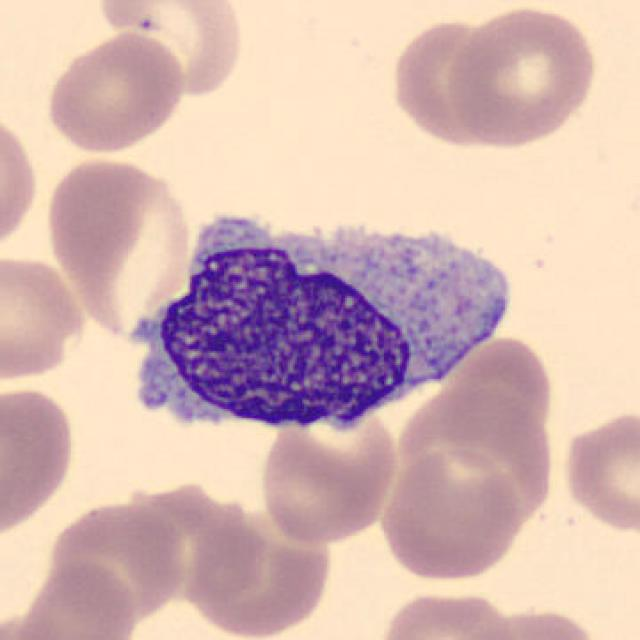Monocyte: (115, 195, 537, 442)
RBC: (41, 152, 192, 340), (442, 2, 602, 150), (254, 393, 402, 548), (377, 442, 526, 584), (182, 508, 338, 636), (41, 496, 190, 630), (113, 479, 269, 604), (41, 28, 188, 155), (386, 14, 503, 150), (97, 0, 250, 100), (439, 334, 557, 444), (0, 381, 80, 539), (0, 250, 89, 384), (4, 555, 140, 640), (556, 404, 640, 536), (373, 587, 523, 640), (0, 106, 41, 259), (467, 604, 608, 640)
